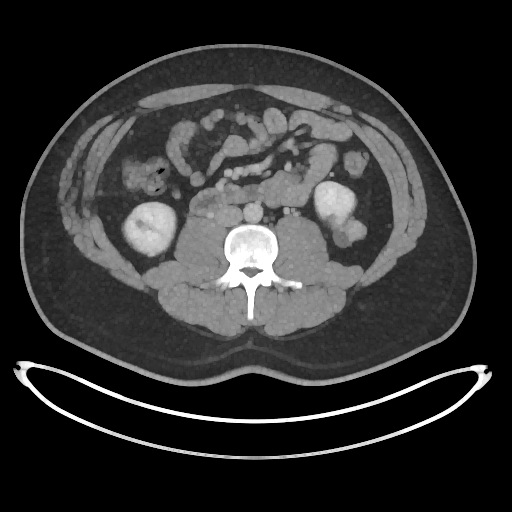Lesion: (329, 212, 369, 249)
